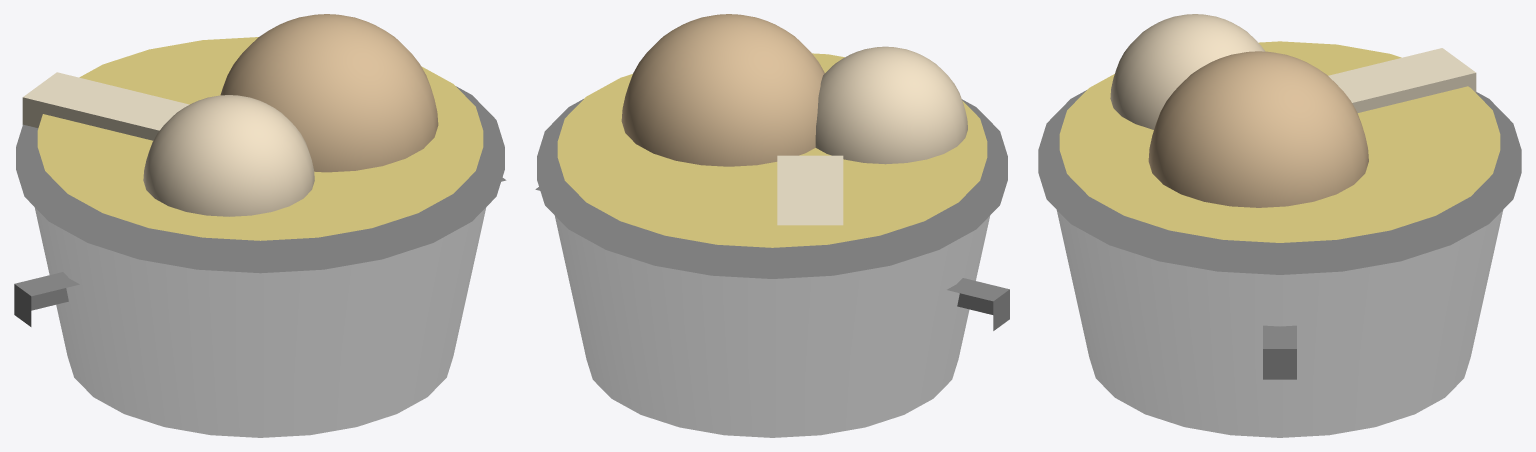
The model's file is sancocho.glb.
The picture shows the model from 3 angles, left to right: view 1: azimuth 30°, elevation 25°; view 2: azimuth 150°, elevation 25°; view 3: azimuth 270°, elevation 25°; orthographic projection. The views are drawn at different scales.
Parts seen in each view (by area): view 1: olla, caldo, pollo, borde, papa, yuca, asa2; view 2: olla, caldo, pollo, borde, papa, yuca, asa2; view 3: olla, caldo, pollo, borde, papa, yuca, asa1.
Part boxes in pixels (<box>): olla: <box>34,207,486,437</box>; caldo: <box>37,37,483,240</box>; pollo: <box>220,14,438,172</box>; borde: <box>16,86,504,273</box>; papa: <box>143,95,314,216</box>; yuca: <box>22,72,189,140</box>; asa2: <box>14,272,79,326</box>; olla: <box>554,215,990,437</box>; caldo: <box>557,53,987,247</box>; pollo: <box>621,14,824,166</box>; borde: <box>537,99,1007,278</box>; papa: <box>815,46,967,164</box>; yuca: <box>777,155,843,225</box>; asa2: <box>947,278,1009,330</box>; olla: <box>1056,210,1503,437</box>; caldo: <box>1059,41,1500,242</box>; pollo: <box>1148,51,1368,207</box>; borde: <box>1038,90,1521,274</box>; papa: <box>1110,14,1265,129</box>; yuca: <box>1328,48,1476,112</box>; asa1: <box>1263,325,1296,379</box>.
Bounding box in the file's own units: 1.28 × 0.84 × 1.14.
